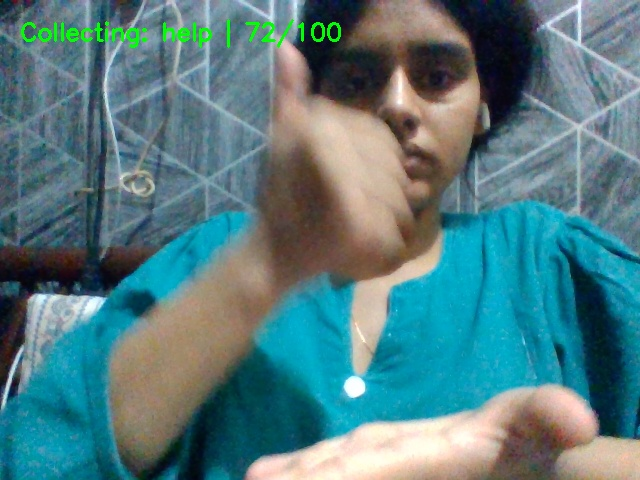help: (237, 29, 612, 480)
